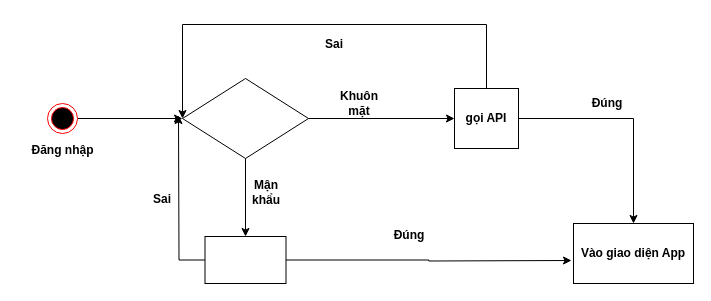
Some shapes in this 711 by 301 pixel diagram are drawn without their labels. The shapes that lost their labels are listed below. From the top down, each one's centre as x and y in pixels, then its label:
pixel 245 118: Chọn phương thức đăng nhập.
pixel 245 260: Nhập mật khẩu
